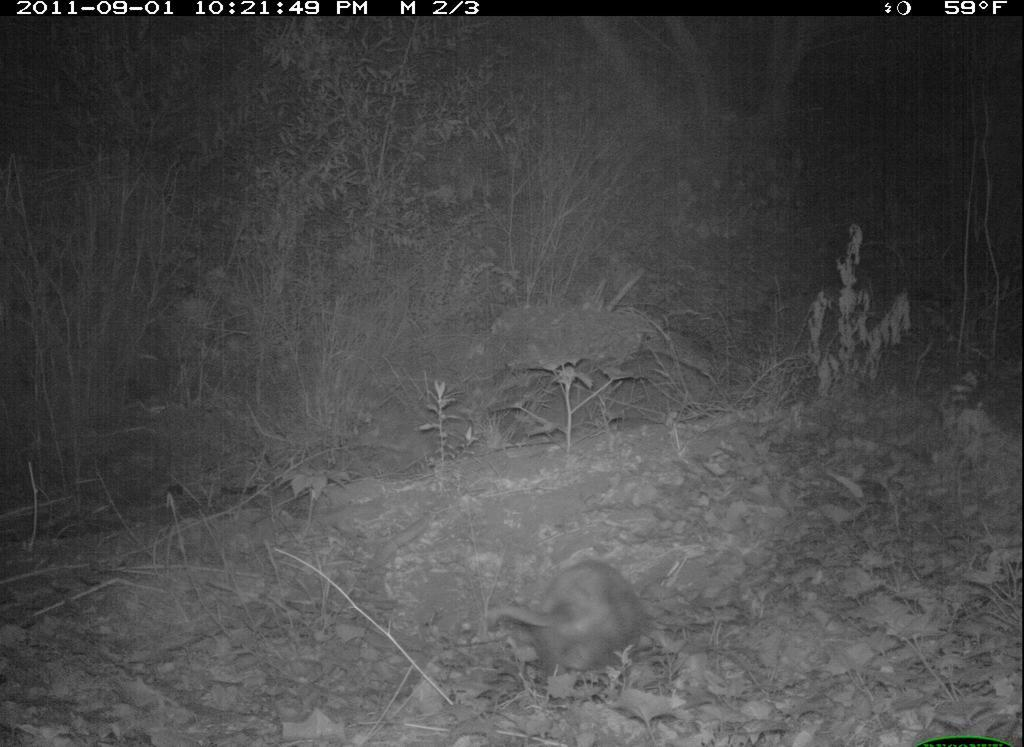opossum: (474, 545, 669, 701)
